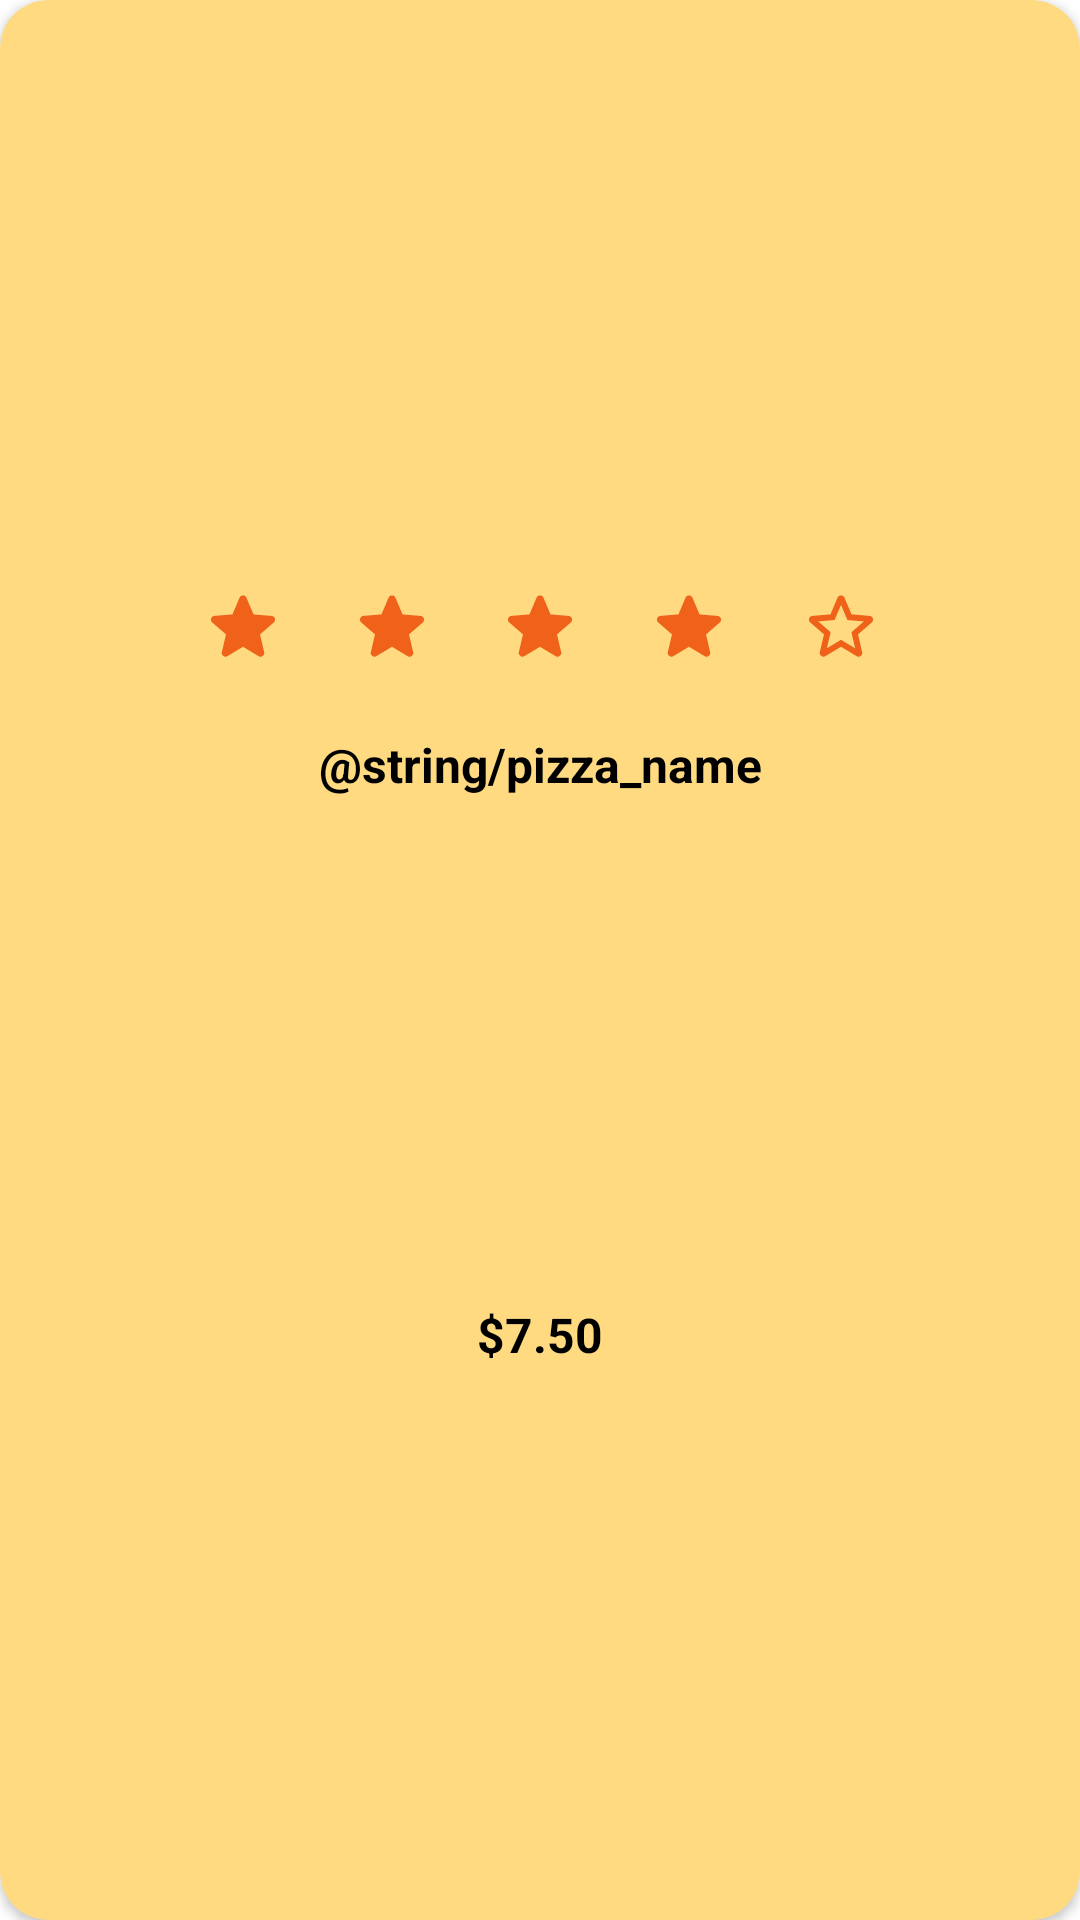

Locate icon controls on the screen. Image size 1080px×1920px, boxes as (x1, y1, x2, y2).
star: (211, 595, 275, 657), (360, 595, 424, 657), (508, 595, 572, 657), (657, 595, 721, 657)
star border: (809, 595, 873, 657)
